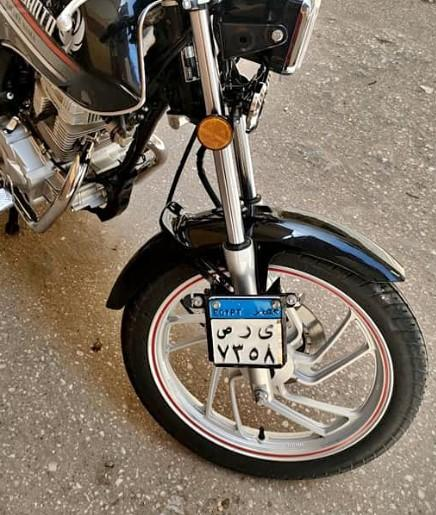License Plate: (207, 293, 295, 366)
